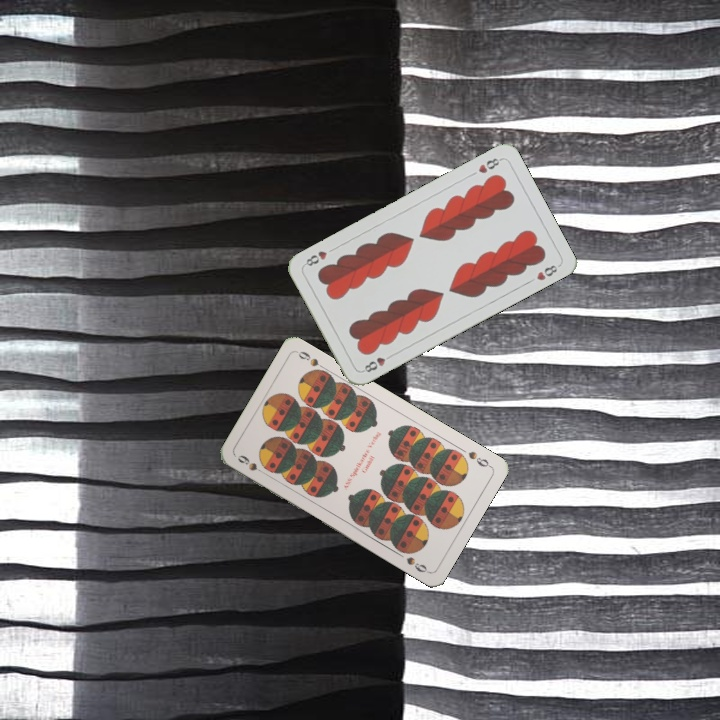H8: (358, 350, 396, 375), (474, 154, 504, 176)
S9: (233, 451, 269, 478), (464, 447, 494, 470)
